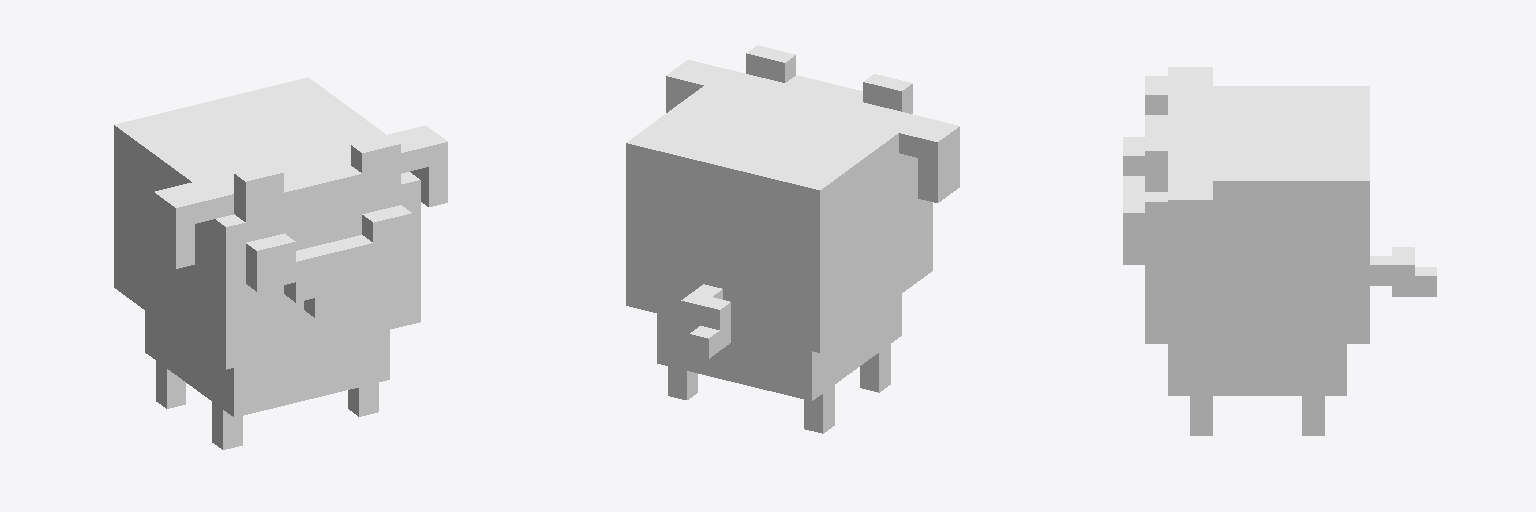
The model's file is mops_002.obj.
The picture shows the model from 3 angles: view 1: azimuth 30°, elevation 25°; view 2: azimuth 150°, elevation 25°; view 3: azimuth 270°, elevation 25°; orthographic projection.
Visible parts, largest first — view 1: object 1; view 2: object 1; view 3: object 1.
Part boxes in pixels (x1,y1,x2,y2): object 1: (114,77,447,449); object 1: (626,45,959,433); object 1: (1123,67,1436,435).
Bounding box in the file's own units: 1.4 × 1.4 × 1.4.